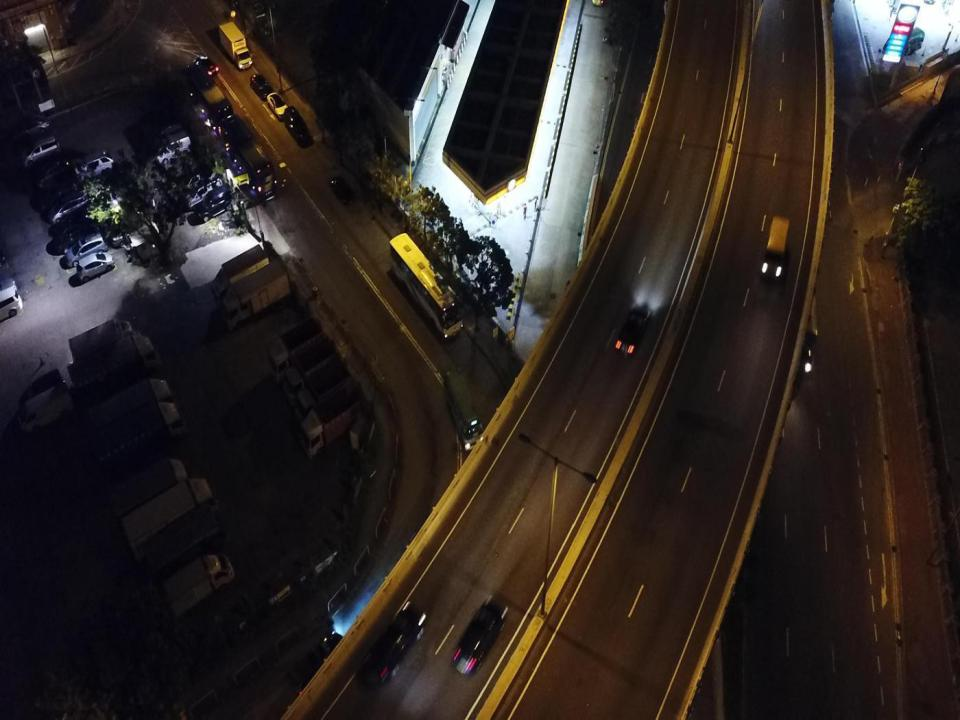bus: (387, 231, 463, 341), (779, 242, 819, 377), (217, 114, 276, 201), (288, 633, 346, 696), (444, 369, 487, 451), (185, 66, 235, 135)
car: (361, 606, 426, 688), (452, 596, 507, 679), (616, 303, 651, 359), (193, 186, 231, 222), (330, 174, 354, 206), (192, 54, 218, 77), (267, 91, 287, 120), (250, 72, 270, 100)
truck: (123, 477, 219, 563), (96, 401, 184, 466), (109, 459, 190, 522), (72, 335, 162, 390), (222, 260, 292, 330), (163, 552, 235, 618), (88, 380, 178, 429), (301, 391, 363, 458), (295, 366, 356, 426), (269, 318, 330, 377), (284, 342, 344, 401), (212, 246, 269, 308), (68, 319, 141, 365), (219, 22, 252, 69)
van: (16, 383, 75, 433), (760, 215, 792, 287), (64, 233, 108, 267), (880, 27, 925, 60), (48, 191, 92, 223), (152, 129, 192, 164), (52, 221, 99, 250), (74, 150, 114, 181), (36, 156, 74, 188), (183, 176, 222, 207), (0, 276, 25, 322), (22, 136, 60, 166), (76, 253, 115, 282), (283, 105, 309, 146)
